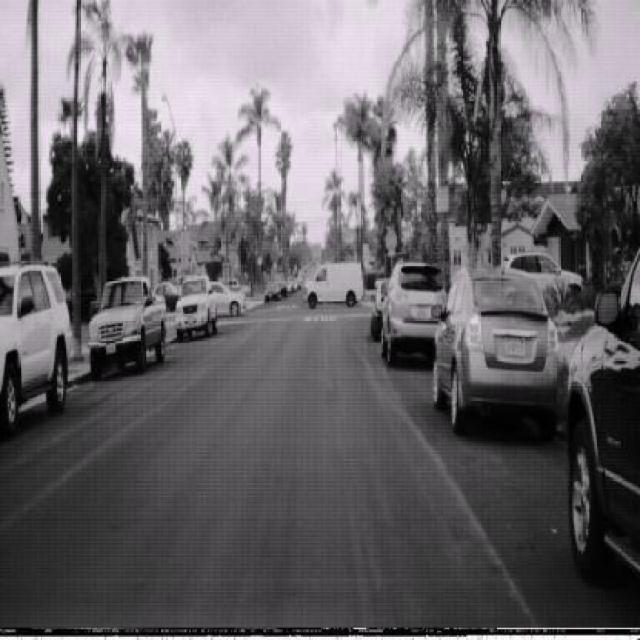stop: (386, 228, 399, 253)
